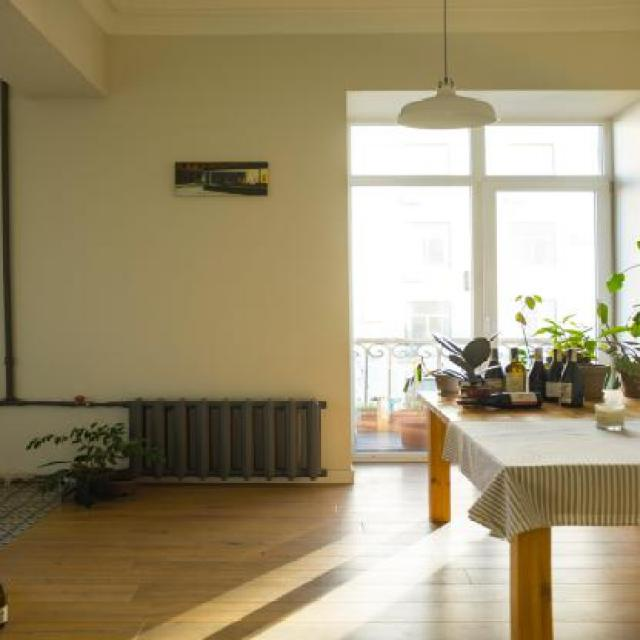Floor: (1, 462, 510, 640), (552, 526, 640, 640)
